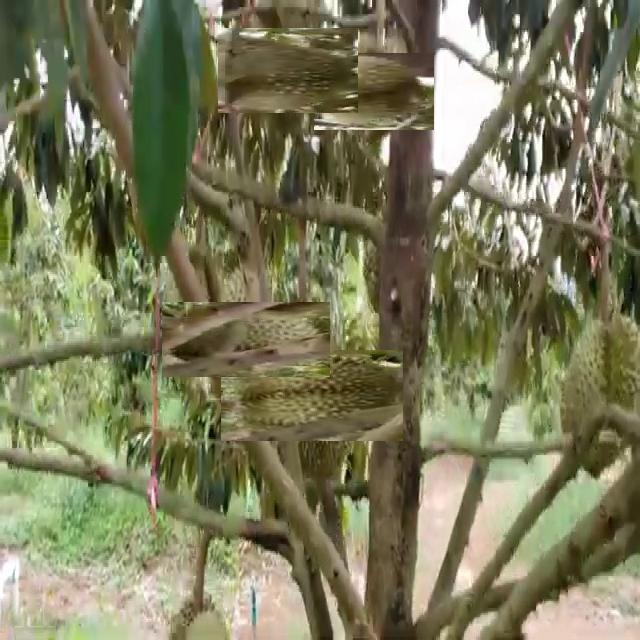durian: (244, 326, 381, 464), (185, 279, 306, 400), (557, 309, 639, 484), (231, 13, 345, 126), (325, 41, 424, 140)
